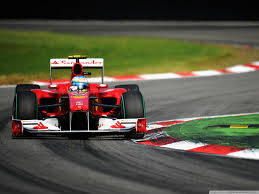FormulaOneCar: (9, 50, 150, 142)
